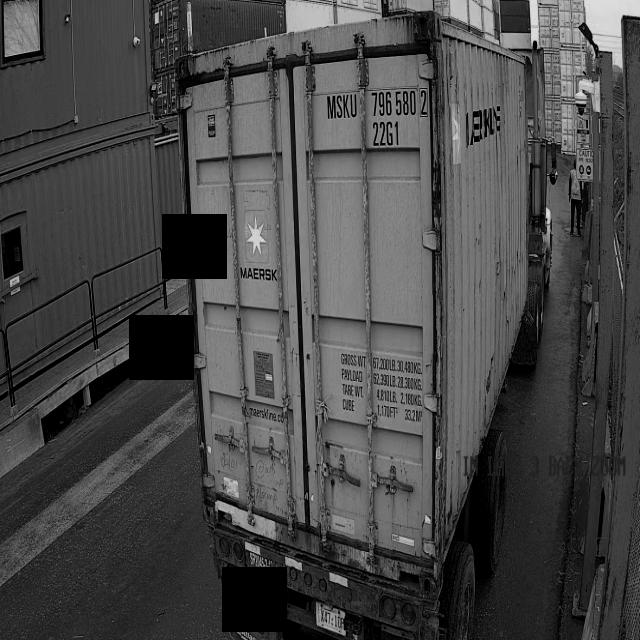container_company_logo: (222, 189, 288, 305)
container_number: (322, 79, 426, 470)
driver: (569, 160, 581, 235)
license_plate: (304, 599, 357, 640), (22, 427, 52, 458)
truck_with_container: (0, 53, 188, 509)
truck_without_container: (176, 12, 555, 640)
